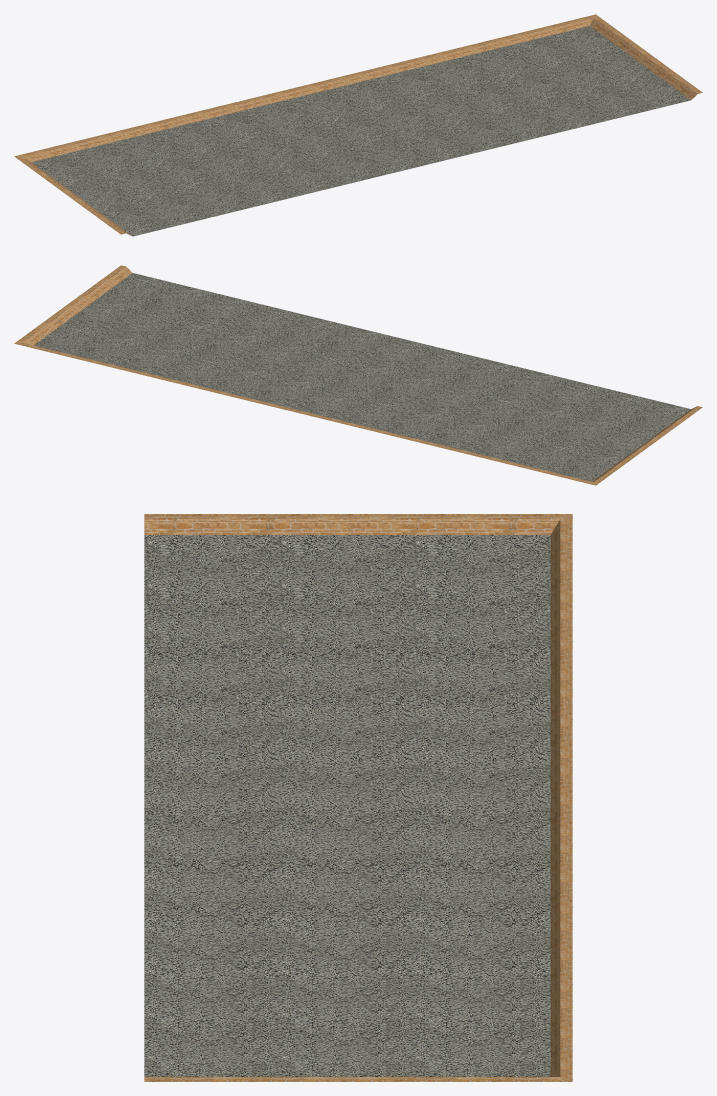
The model's file is Building_04_Roof.fbx.
The picture shows the model from 3 angles, top to bottom: view 1: azimuth 30°, elevation 25°; view 2: azimuth 150°, elevation 25°; view 3: azimuth 270°, elevation 25°; orthographic projection. The views are drawn at different scales.
Visible parts, largest first — view 1: Building_04_Roof; view 2: Building_04_Roof; view 3: Building_04_Roof.
Boxes of the visible parts, x1,y1,x2,y2 form: Building_04_Roof: [14, 14, 702, 236]; Building_04_Roof: [14, 265, 702, 485]; Building_04_Roof: [144, 514, 572, 1081].
Size of the model in its own units: 2511 by 19.54 by 800.
